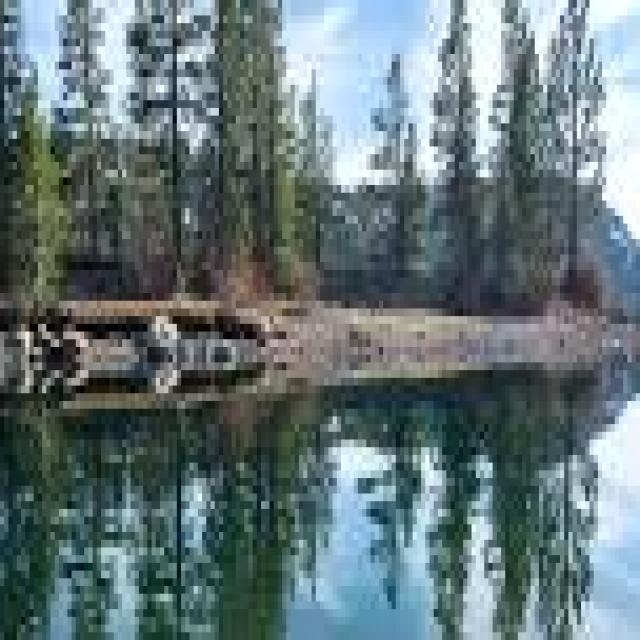-: (38, 470, 640, 640)
